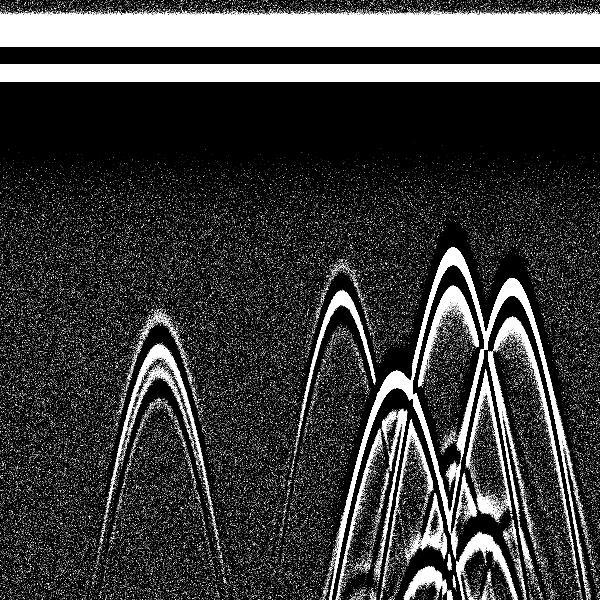pipe: (353, 4, 438, 443), (117, 8, 205, 403), (469, 8, 555, 360), (303, 7, 380, 350), (410, 7, 490, 324)
